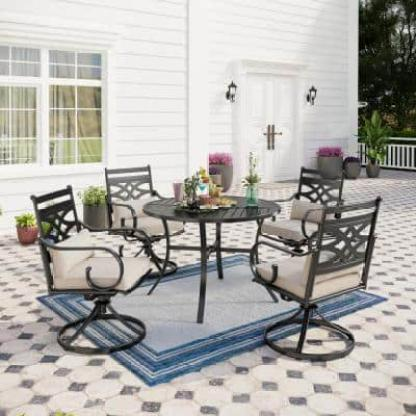table: (140, 187, 284, 324)
